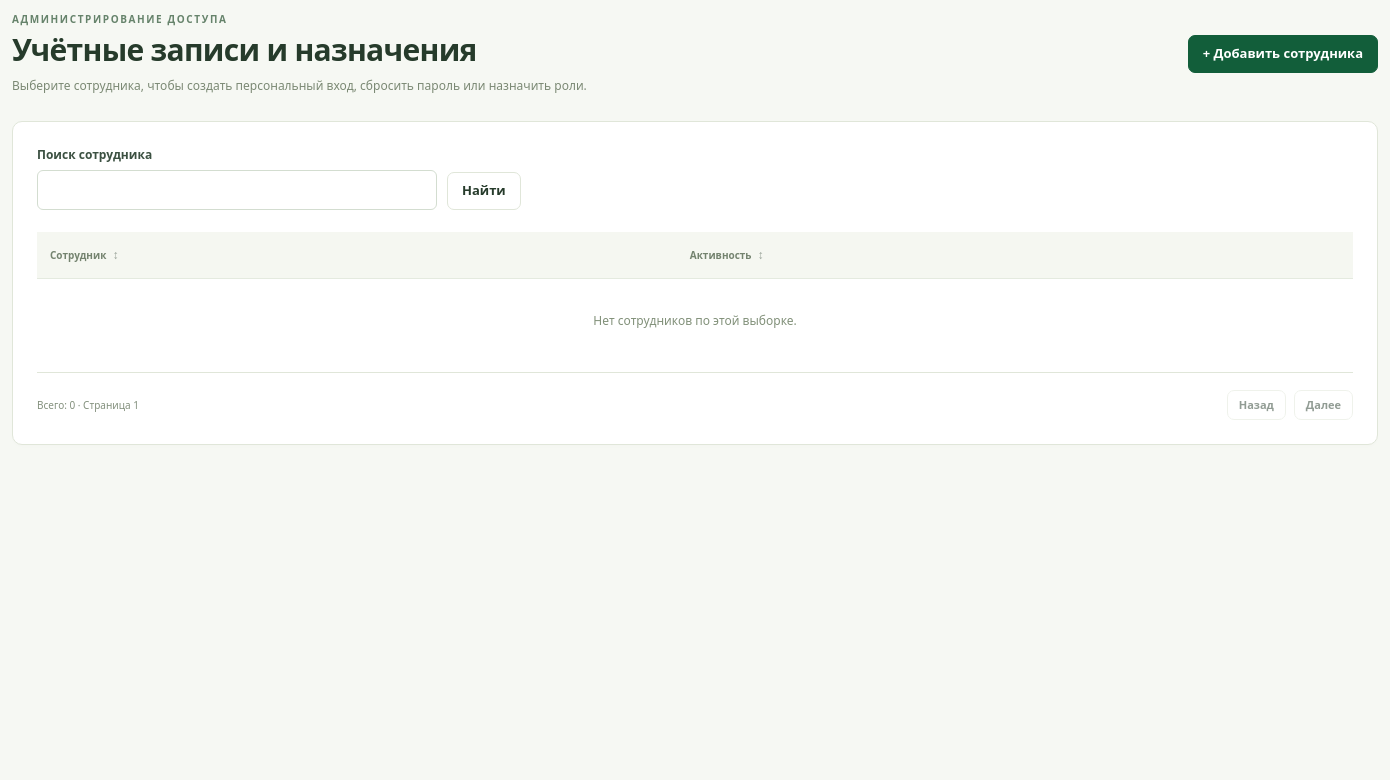
Test: access administrator navigation › creates a person first and retries login creation on the same person without a duplicate
Step 1. Click the button "+ Добавить сотрудника" → (1283, 54), box [1188,34,1378,72]
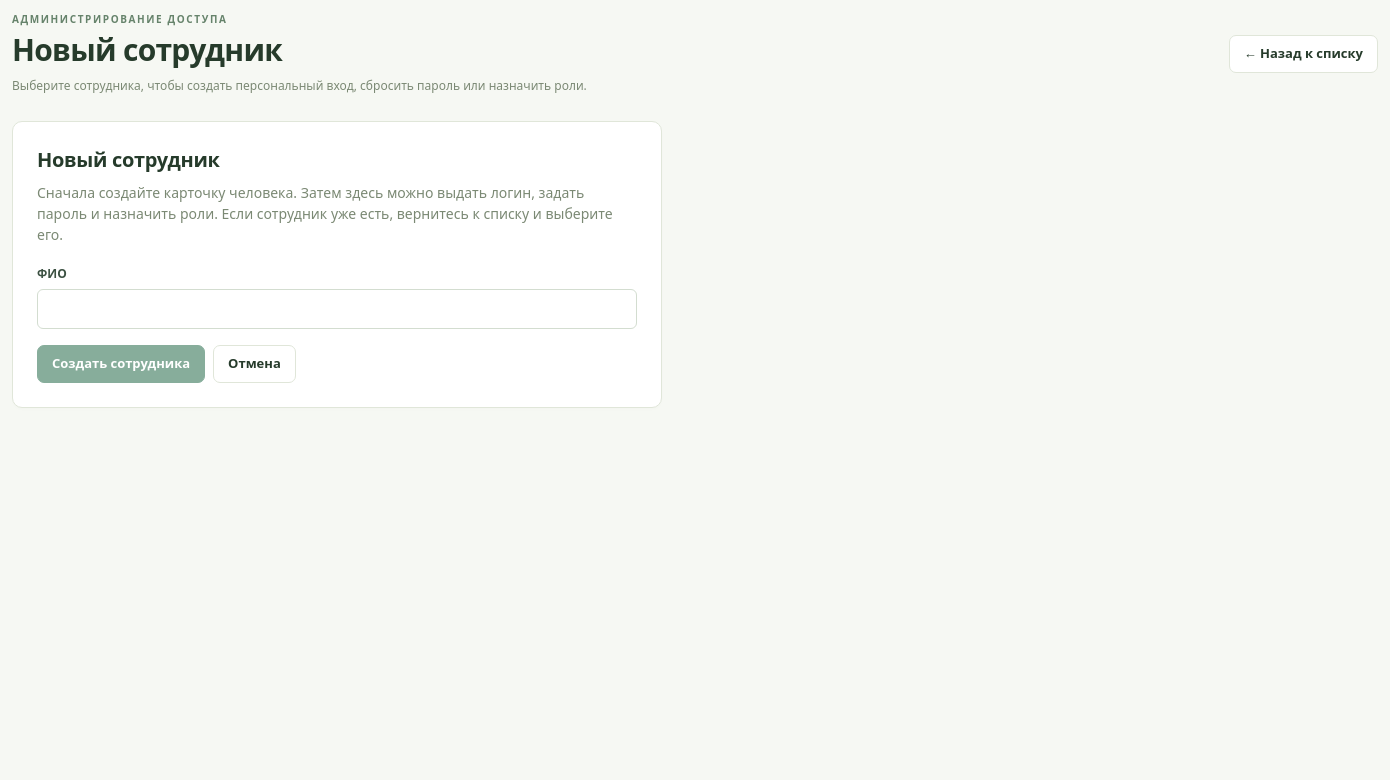
Step 2. Type "Новый сотрудник" into the field named "full_name" → (337, 309), box [37,289,637,329]
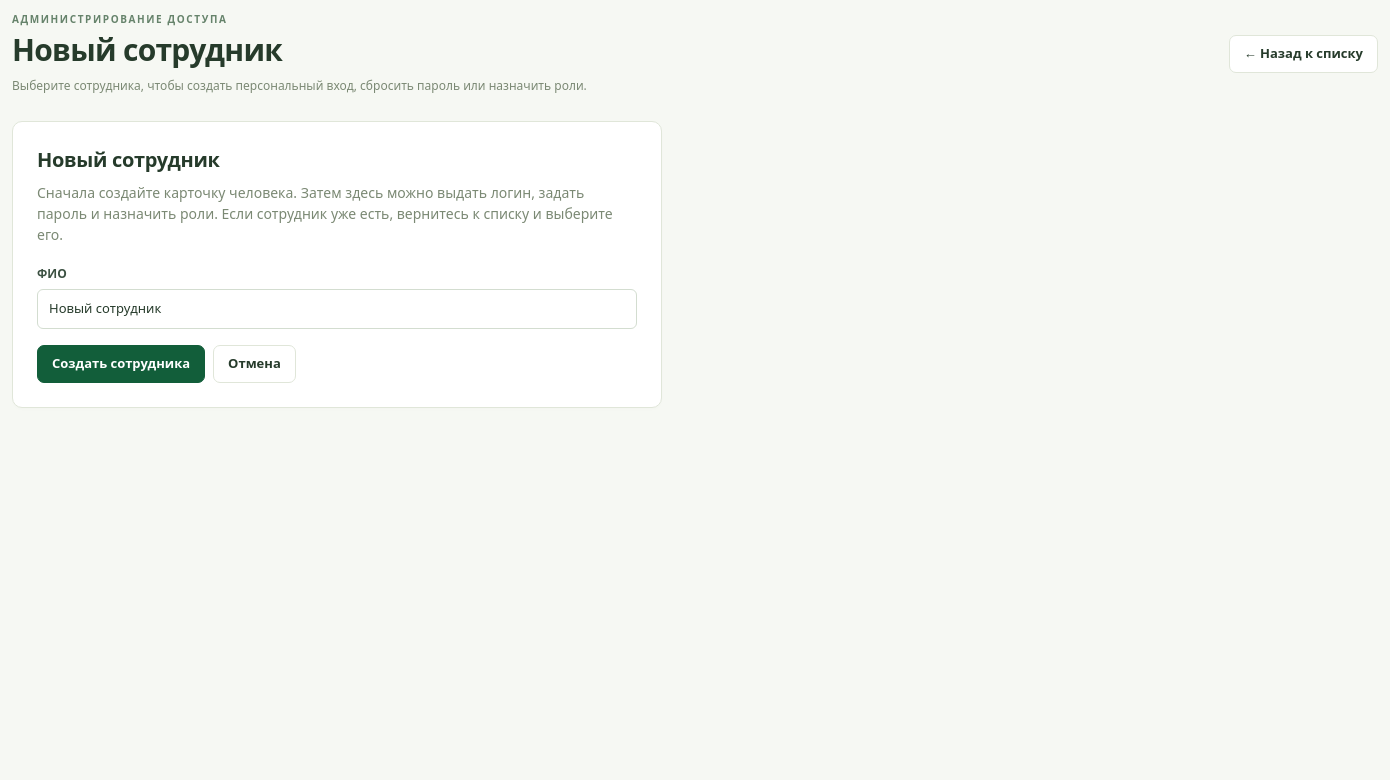
Step 3. Submit the form, box [37,265,637,383]
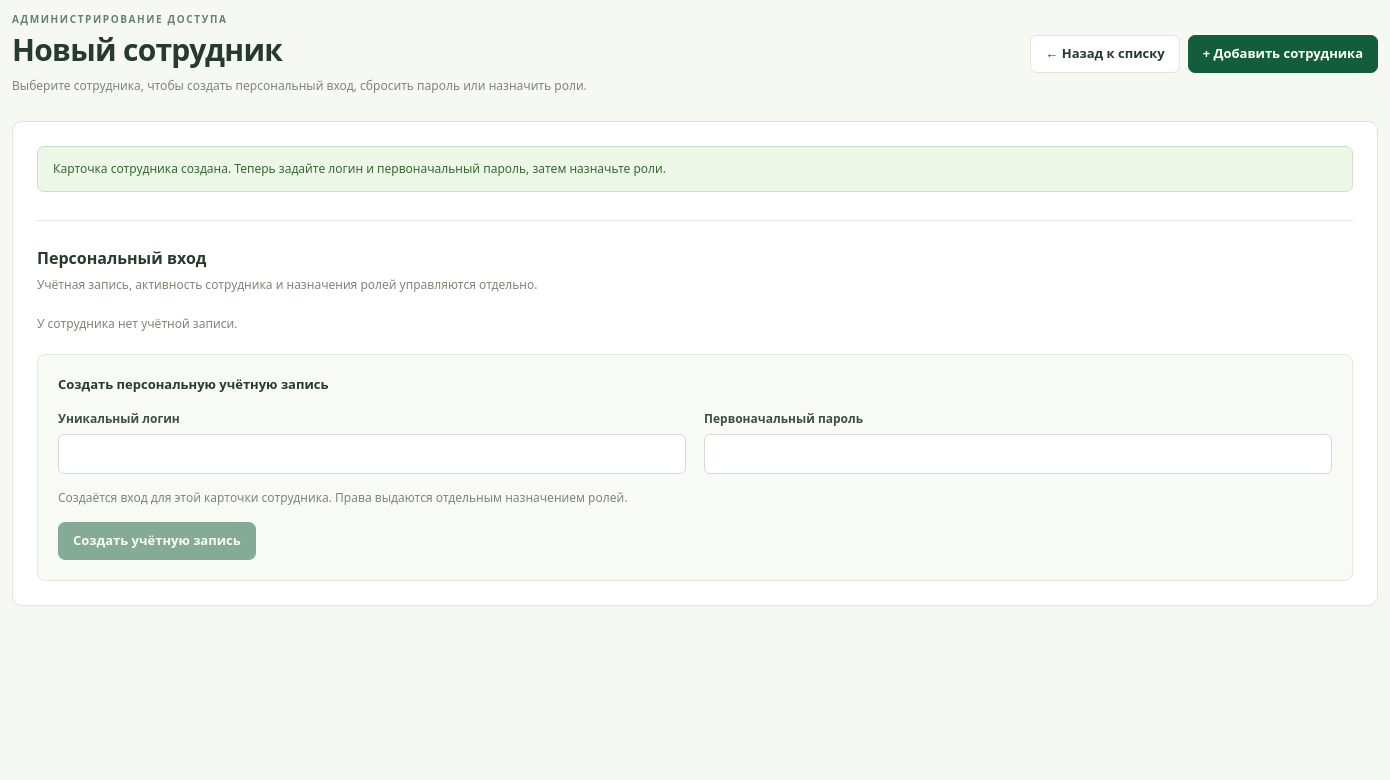
Now the heading "Новый сотрудник" is shown, box [12,29,282,70]
Step 4. Type "new-login" into the field named "new_username" → (372, 454), box [58,434,686,474]
Step 5. Type "New-person-test-password9!" into the password field named "new_password" → (1018, 454), box [704,434,1332,474]
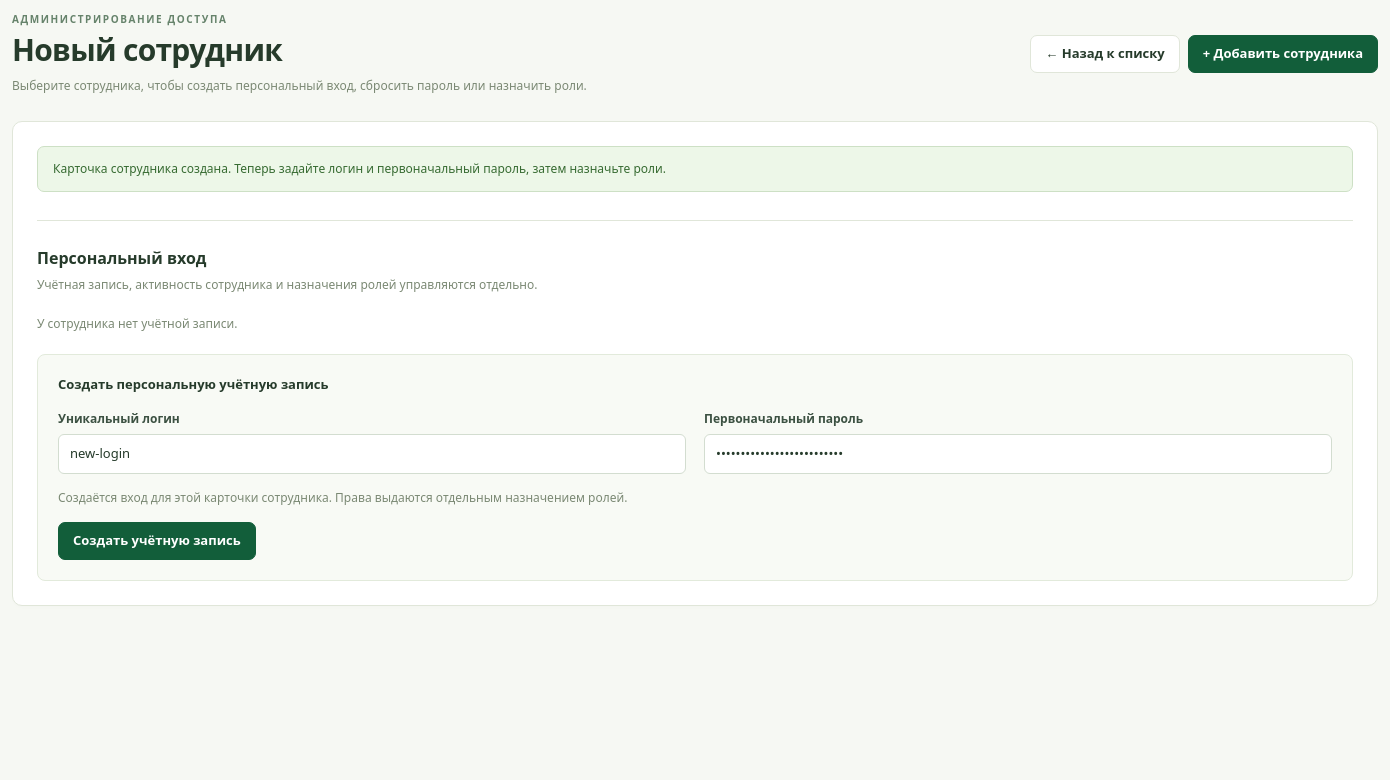
Step 6. Submit the form, box [37,354,1353,581]
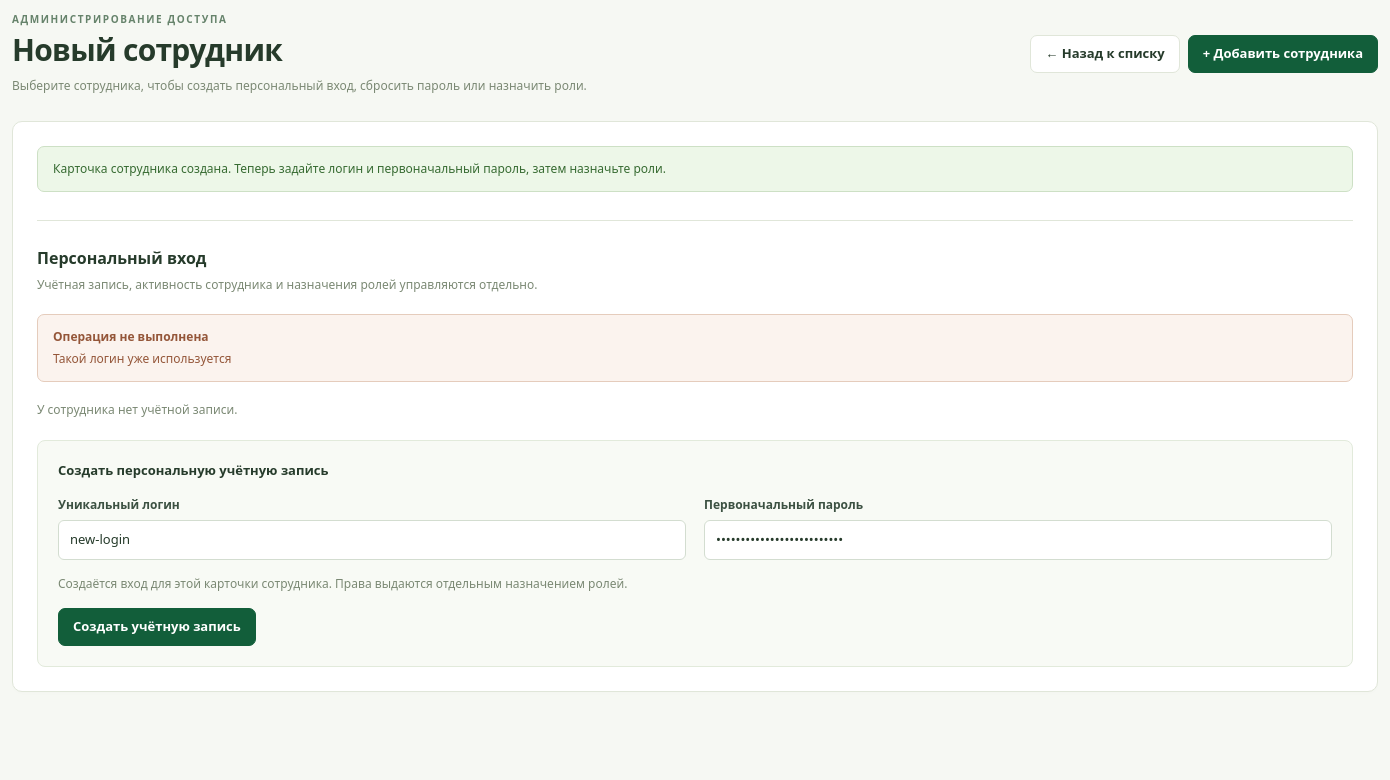
Now the text "Такой логин уже используется" is shown, box [53,350,231,367]
Step 7. Submit the form, box [37,440,1353,667]
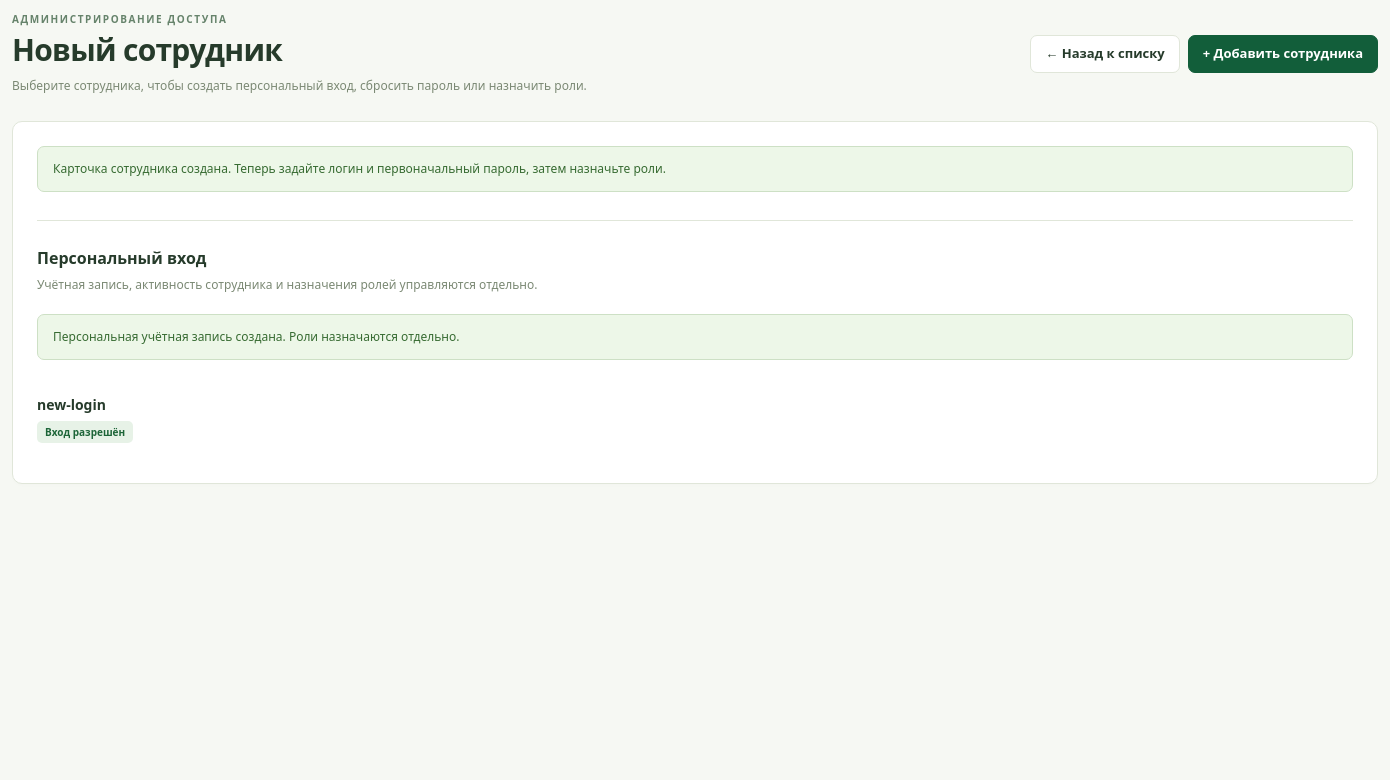
Now the text "new-login" is shown, box [37,395,106,414]
